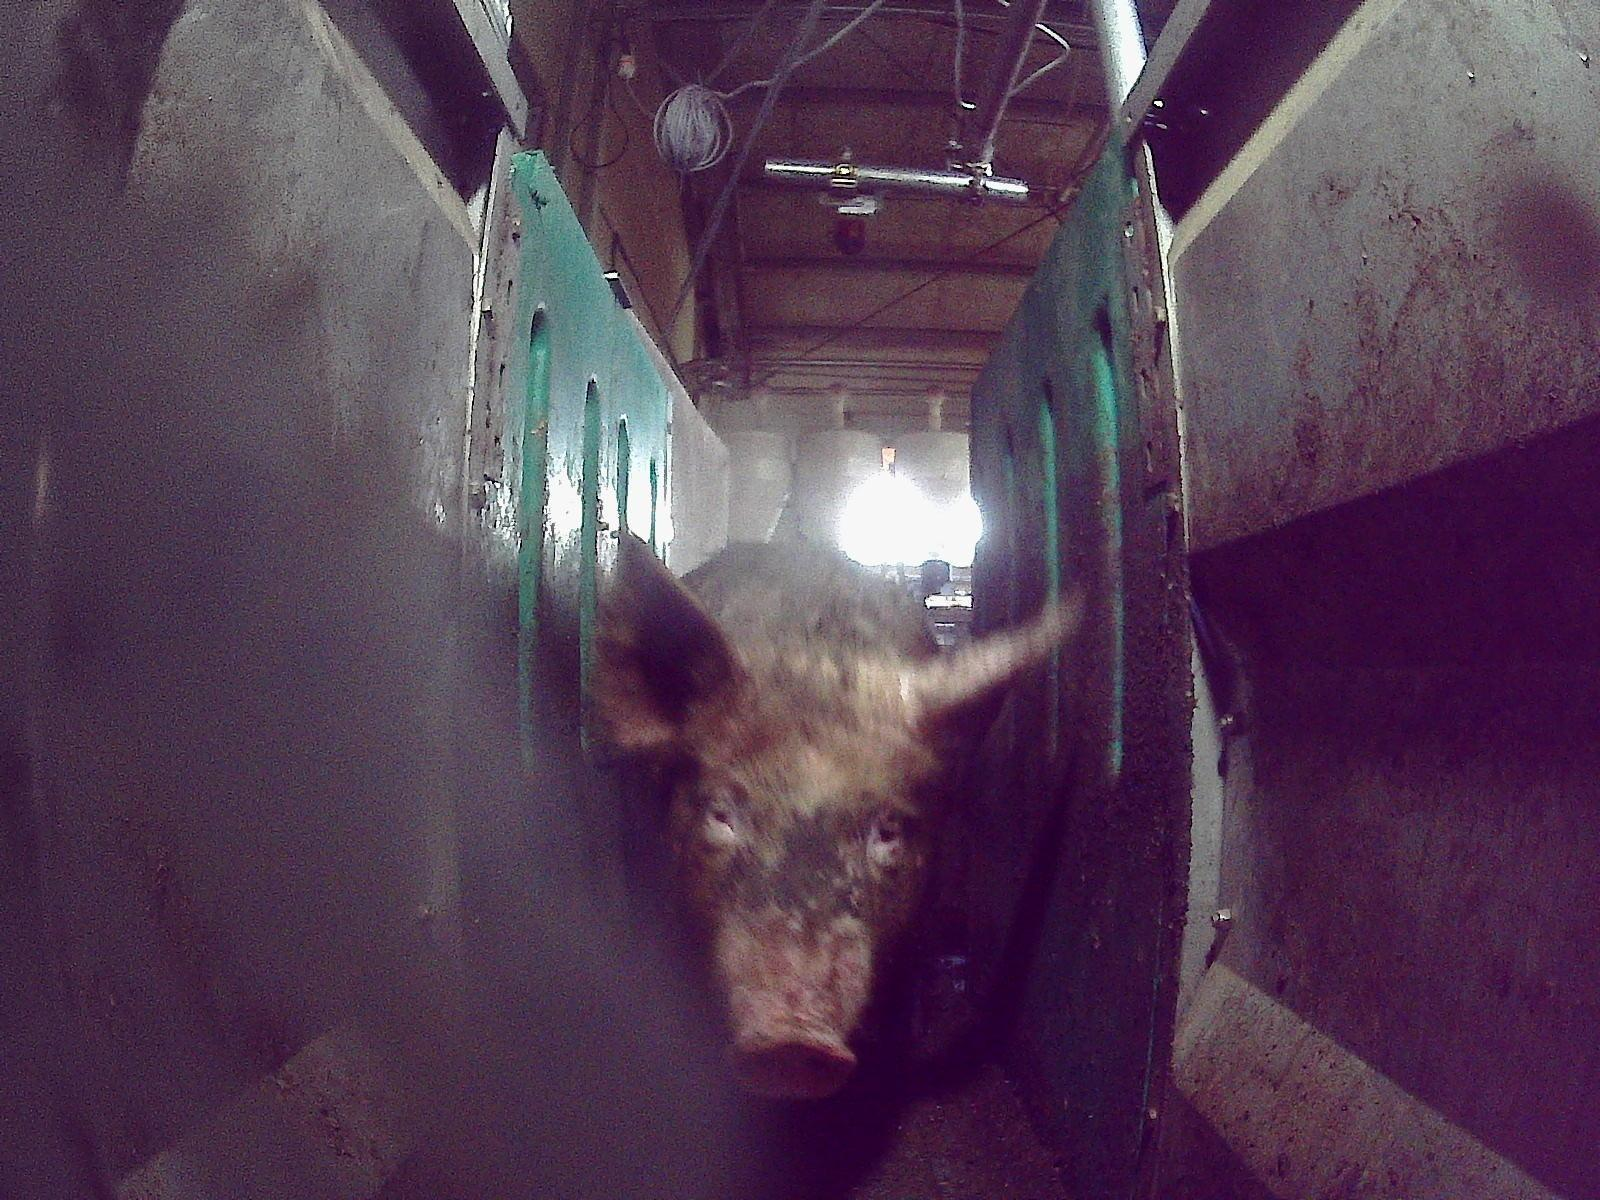Face: (674, 672, 933, 1096)
